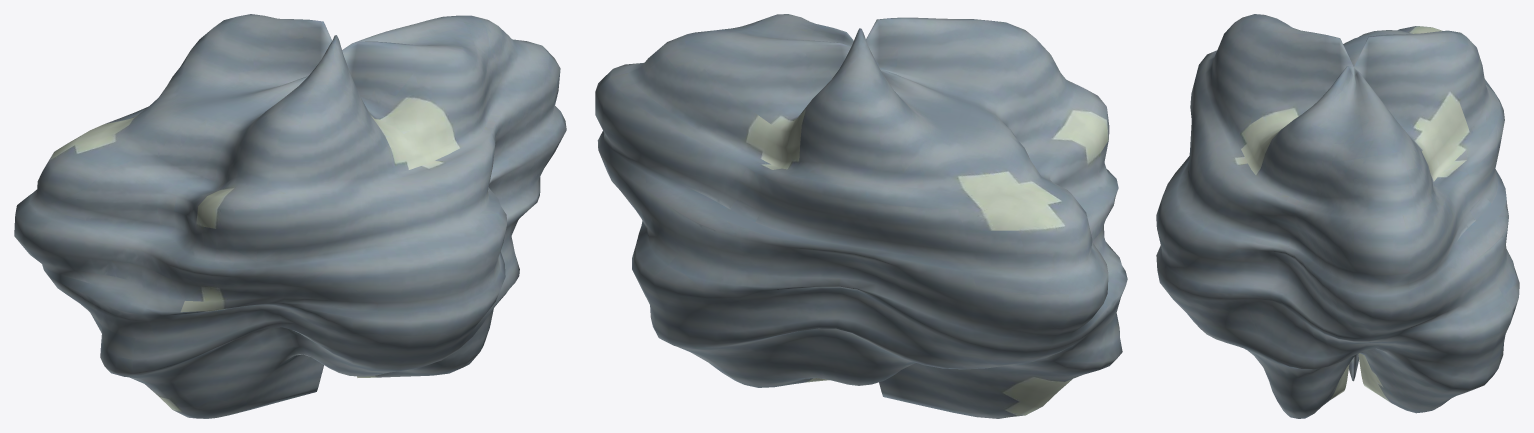
Rendered from rock_a.glb.
3 views of the same model, side by side, from view 1: azimuth 30°, elevation 25°; view 2: azimuth 150°, elevation 25°; view 3: azimuth 270°, elevation 25° (orthographic). The views are drawn at different scales.
Visible parts, largest first — view 1: 18A Rock Formation; view 2: 18A Rock Formation; view 3: 18A Rock Formation.
Boxes of the visible parts, x1,y1,x2,y2 form: 18A Rock Formation: [14, 14, 566, 418]; 18A Rock Formation: [595, 14, 1127, 418]; 18A Rock Formation: [1156, 14, 1519, 418].
Size of the model in its own units: 4.63 by 3.11 by 2.92.
2 materials, 2 textured.
